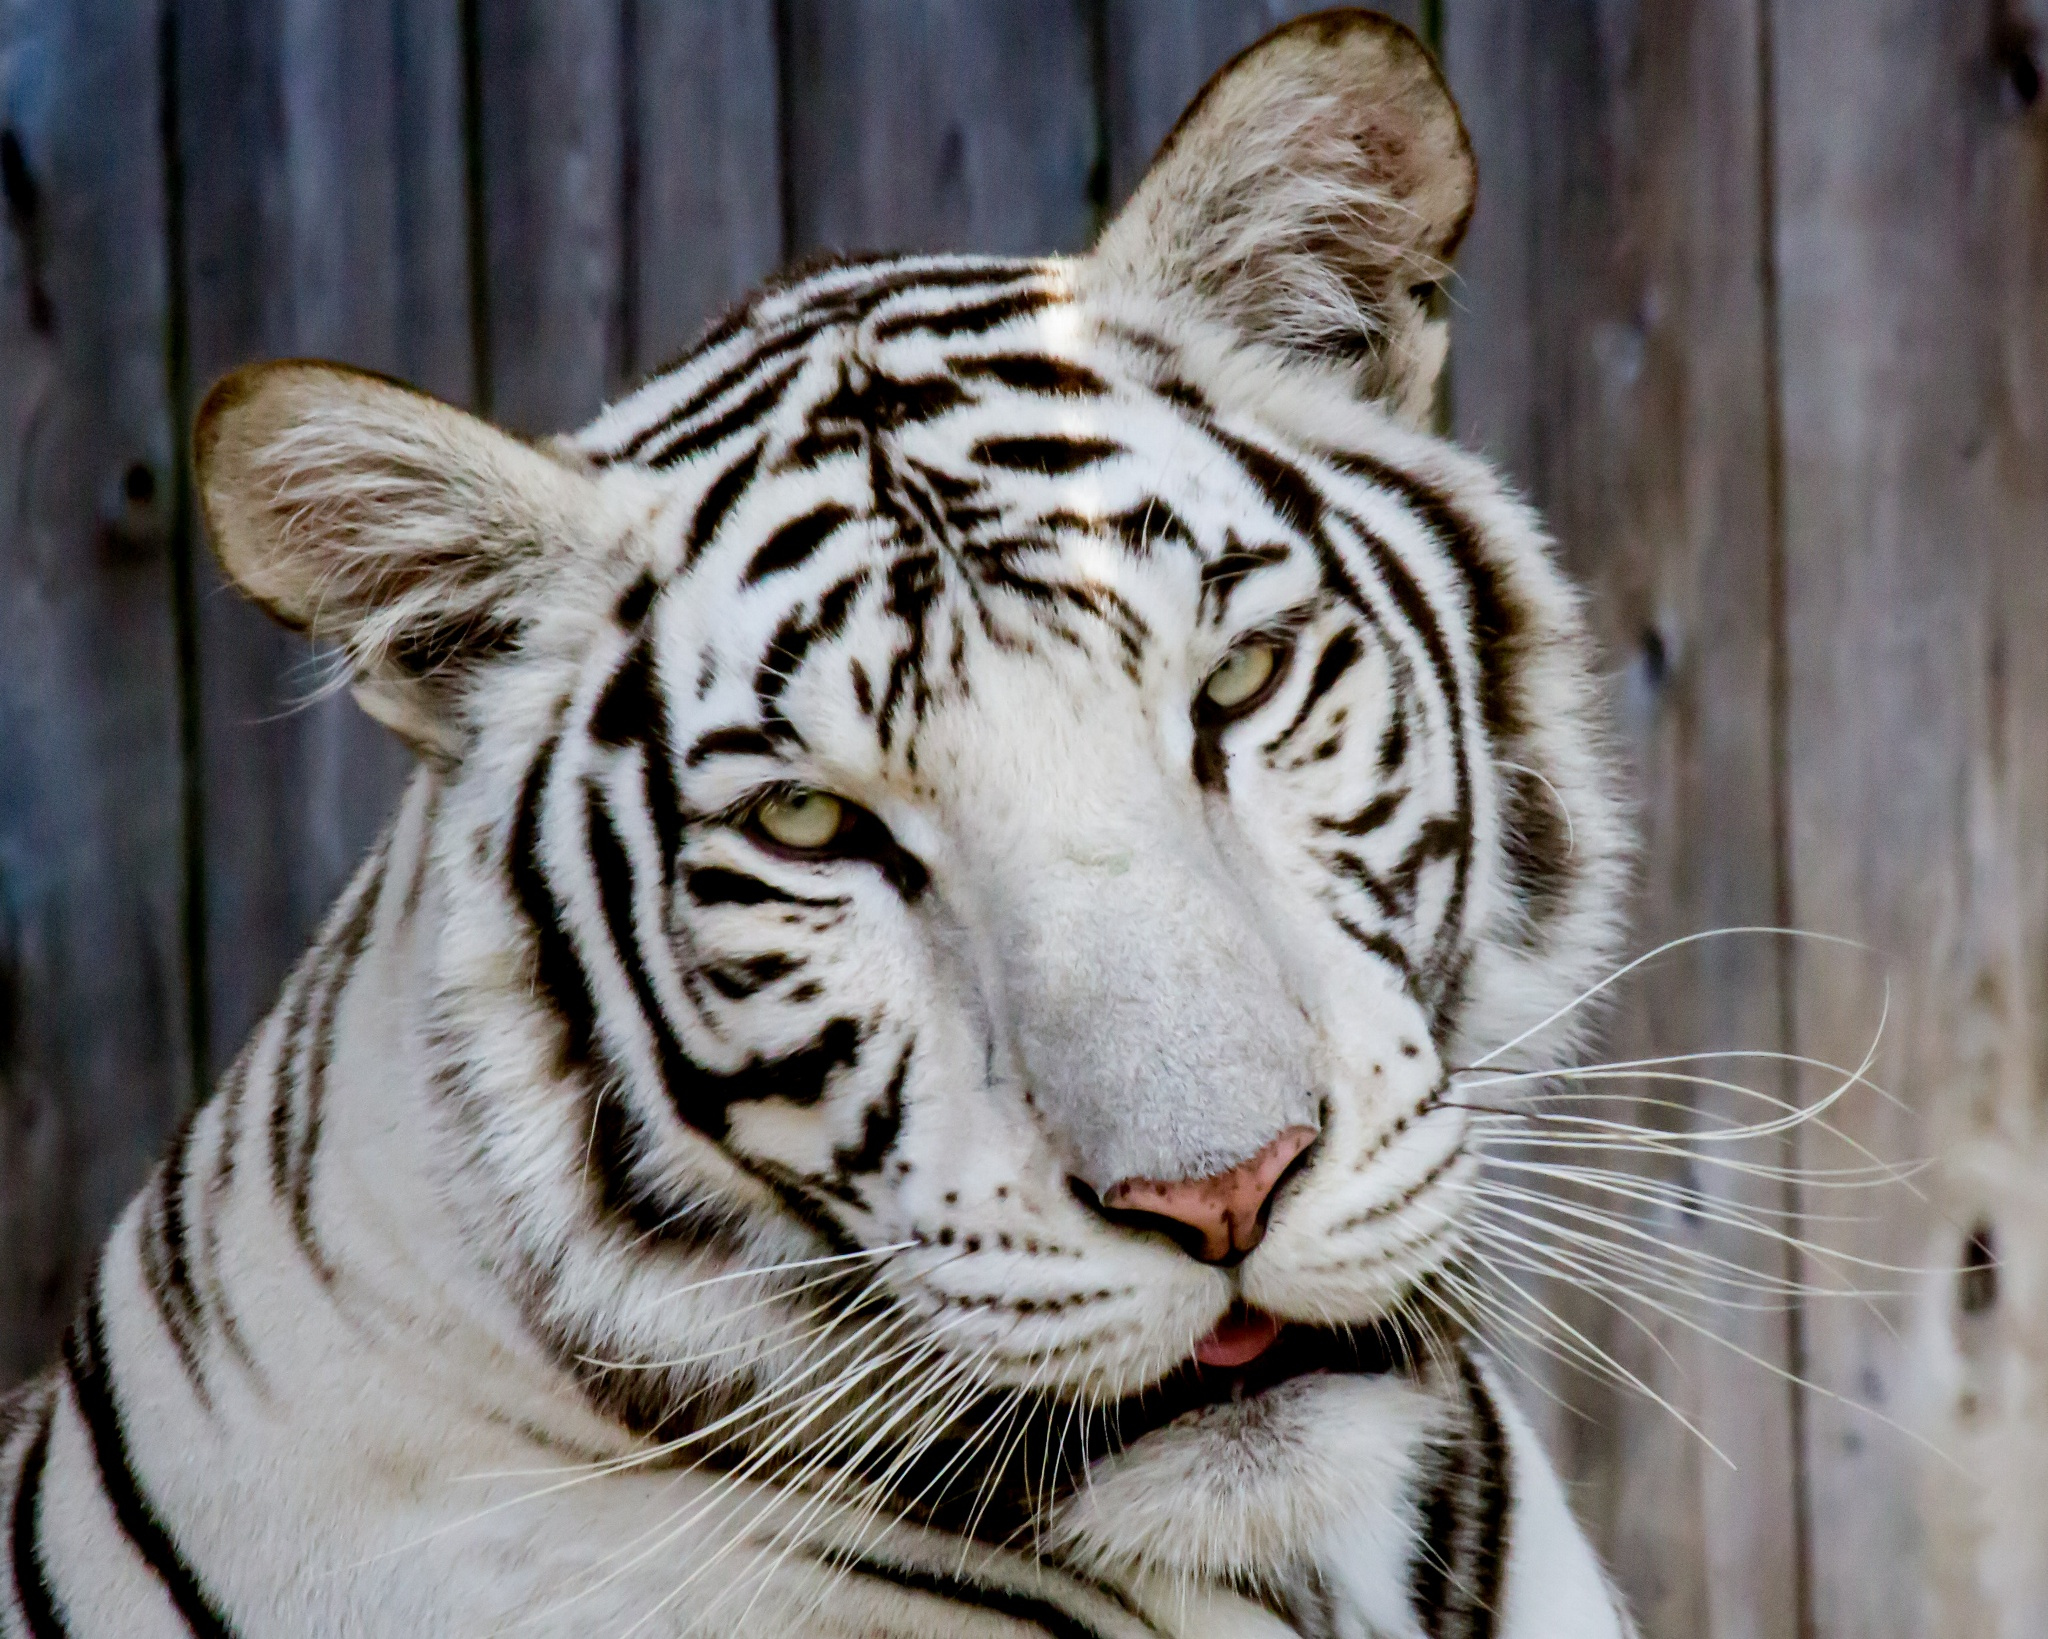tiger: (90, 107, 1653, 1569)
